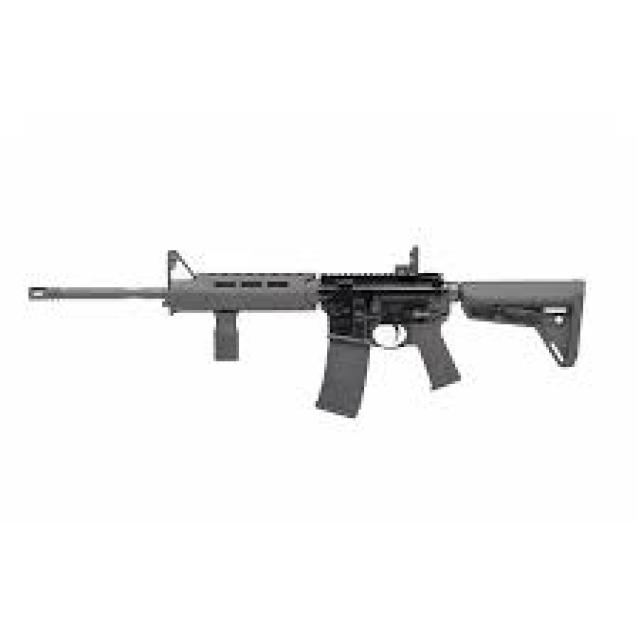rifle: (20, 248, 590, 424)
